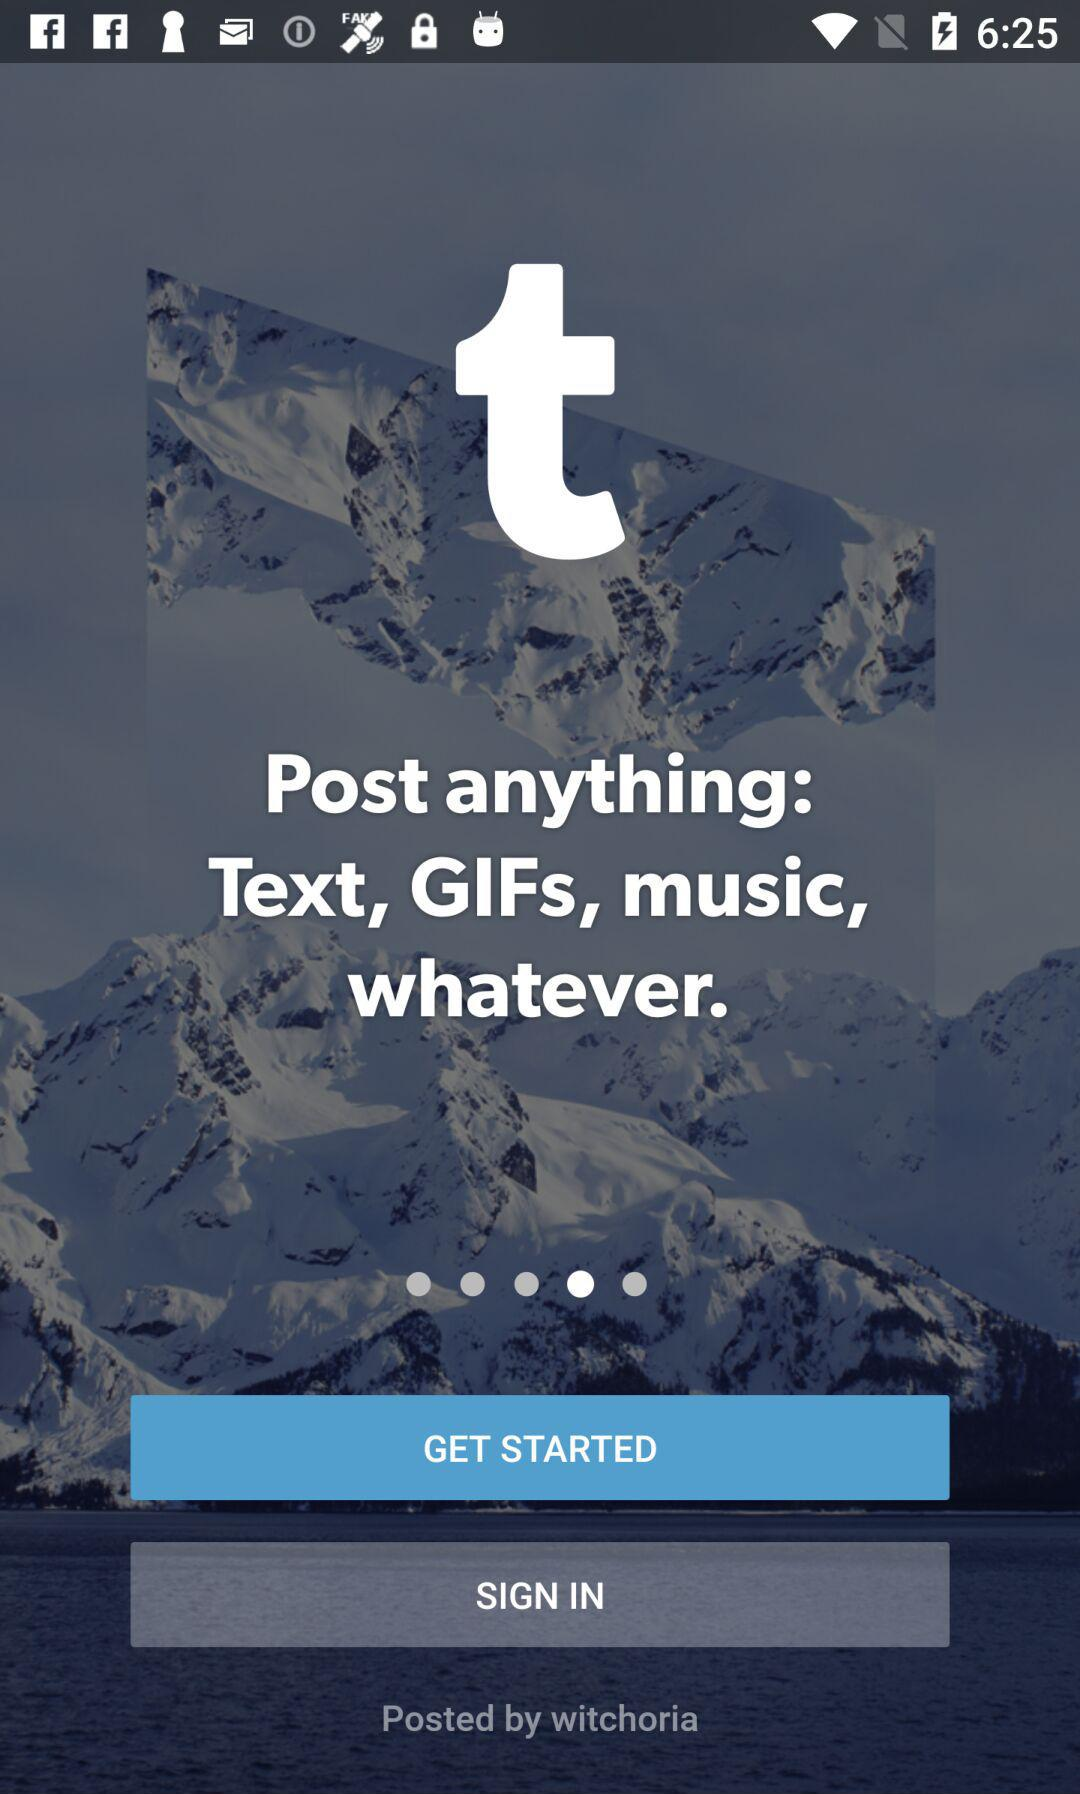BackgroundImage: (1, 64, 1080, 1794)
Image: (455, 263, 626, 563)
PageIndicator: (405, 1269, 650, 1299)
Text: (208, 753, 869, 1019), (383, 1703, 698, 1740)
TextButton: (129, 1394, 951, 1501), (131, 1542, 951, 1648)
UpperTaskBar: (1, 1, 1080, 64)
